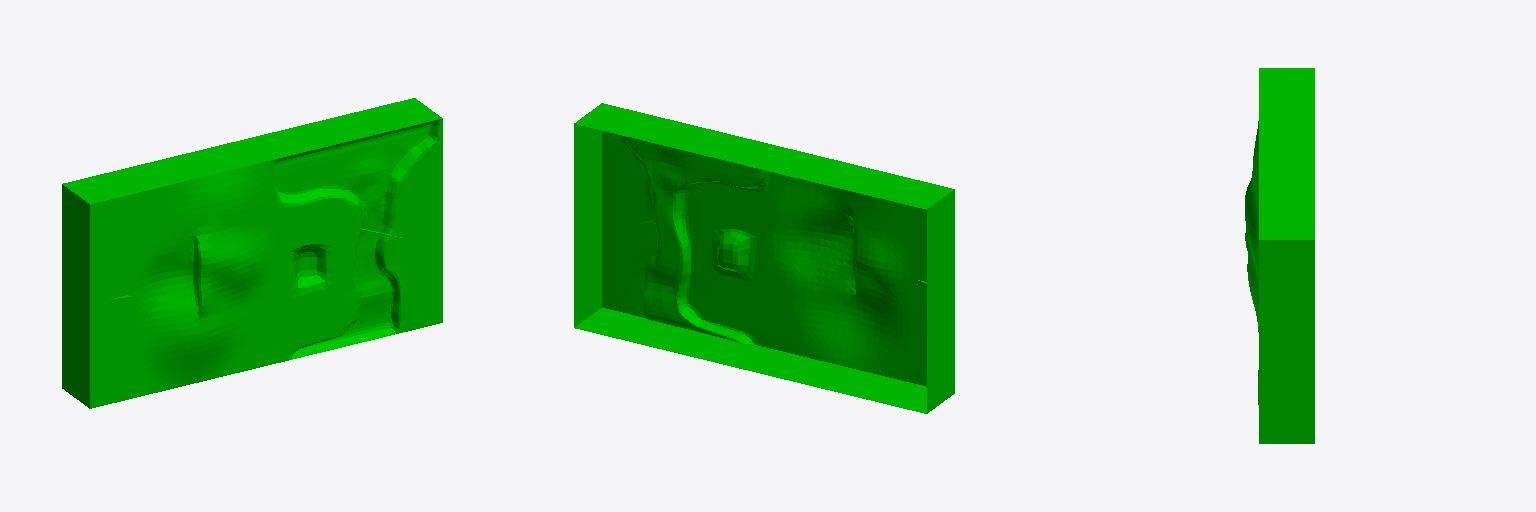
The model's file is woods_0000_dec.obj.
The picture shows the model from 3 angles: view 1: azimuth 30°, elevation 25°; view 2: azimuth 150°, elevation 25°; view 3: azimuth 270°, elevation 25°; orthographic projection.
Visible parts, largest first — view 1: level_1.034_Cube.827; view 2: level_1.034_Cube.827; view 3: level_1.034_Cube.827.
Boxes of the visible parts, <box> form: level_1.034_Cube.827: <box>62,98,442,408</box>; level_1.034_Cube.827: <box>574,103,954,413</box>; level_1.034_Cube.827: <box>1245,68,1314,443</box>.
Size of the model in its own units: 2890 by 1600 by 502.